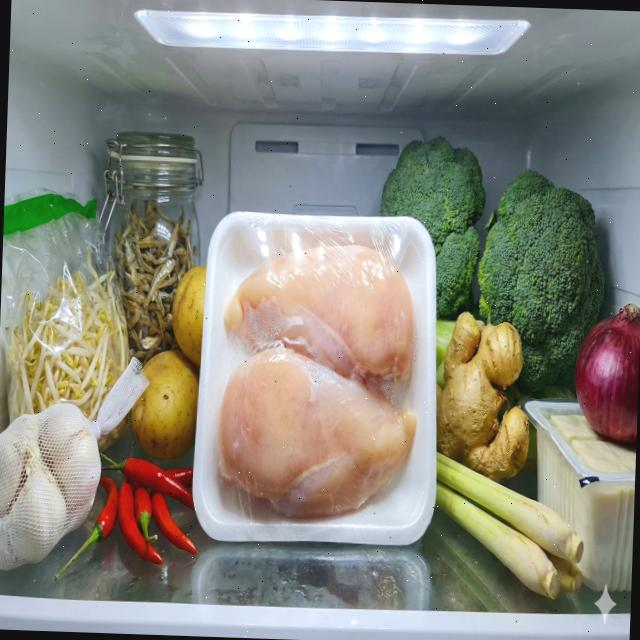anchovies: (108, 197, 201, 370)
bean_sprouts: (0, 245, 132, 428)
brocolli: (473, 165, 609, 398), (377, 134, 488, 320)
chicken: (214, 238, 422, 520)
chili: (57, 455, 207, 594)
garlic: (0, 400, 103, 574)
ginger: (430, 311, 533, 484)
lemongrass: (431, 452, 587, 598)
onion: (575, 306, 640, 448)
potato: (129, 261, 206, 465)
tofu: (550, 414, 636, 474)
